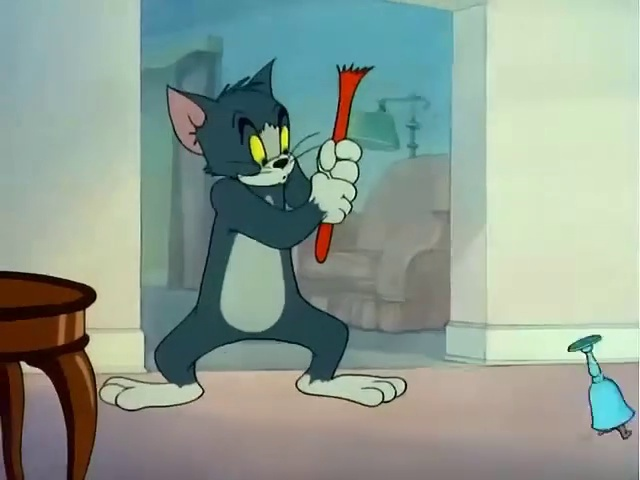tom: (93, 22, 430, 429)
